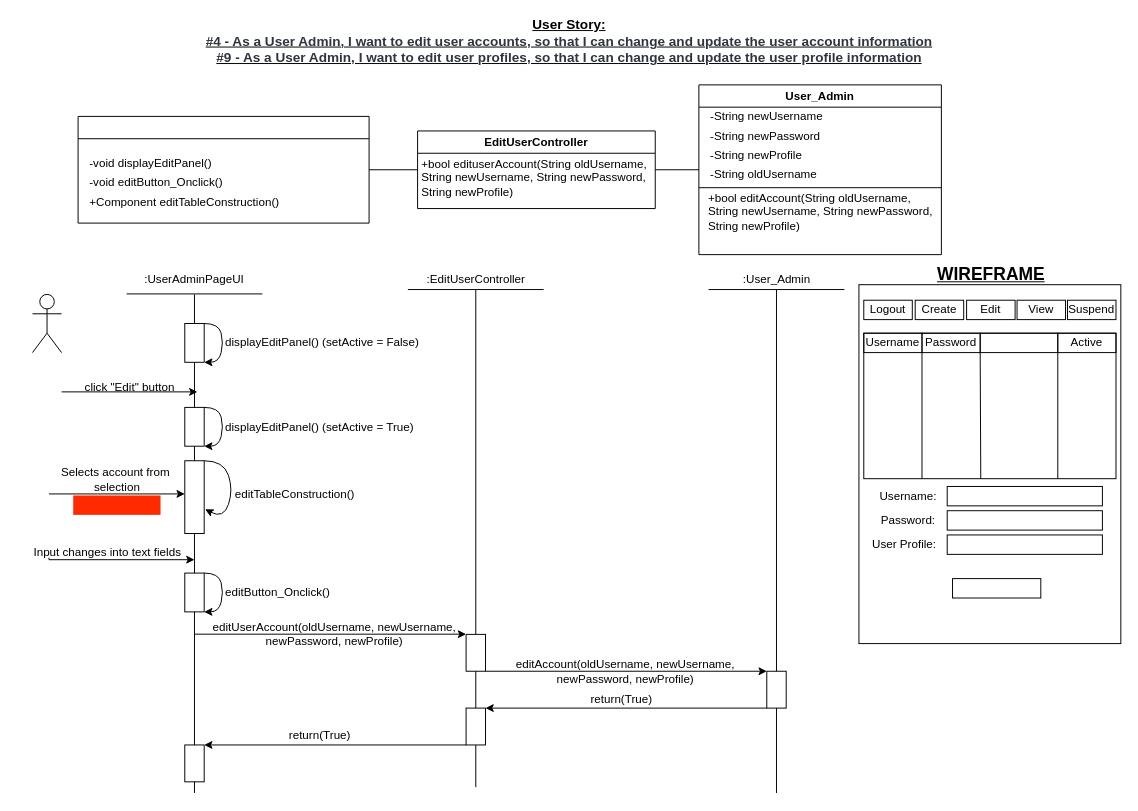
This 1138x811 diagram has some shape labels left out. The box of each missing label's shape, as (x1, y1, x2, y2) in pixels:
(actionlistener): (73, 495, 160, 514)
Edit Changes: (952, 578, 1041, 598)
User Admin: (32, 293, 62, 353)
User Profile: (979, 332, 1058, 353)
UserAdminPageUI: (77, 115, 369, 223)
